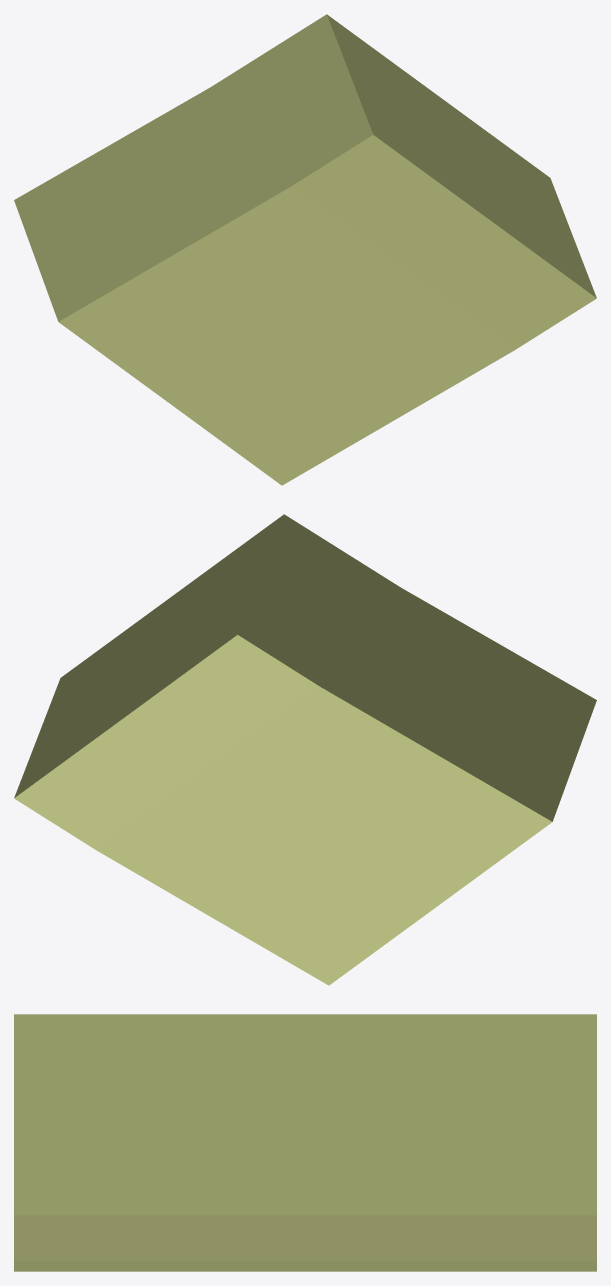
The picture shows the model from 3 angles, top to bottom: view 1: azimuth 30°, elevation 25°; view 2: azimuth 150°, elevation 25°; view 3: azimuth 270°, elevation 25°; orthographic projection. The views are drawn at different scales.
Visible parts, largest first — view 1: 0_1_3_2_2_2_1_2_1_1; view 2: 0_1_3_2_2_2_1_2_1_1; view 3: 0_1_3_2_2_2_1_2_1_1.
Boxes of the visible parts, box(x1,y1,x2,y2) form: 0_1_3_2_2_2_1_2_1_1: box(14, 14, 596, 485); 0_1_3_2_2_2_1_2_1_1: box(14, 514, 596, 985); 0_1_3_2_2_2_1_2_1_1: box(14, 1014, 596, 1271).
Size of the model in its own units: 5.56 by 3.59 by 6.
